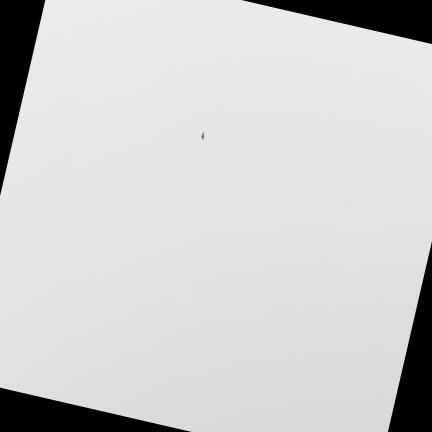Shahed: (201, 132, 203, 139)
